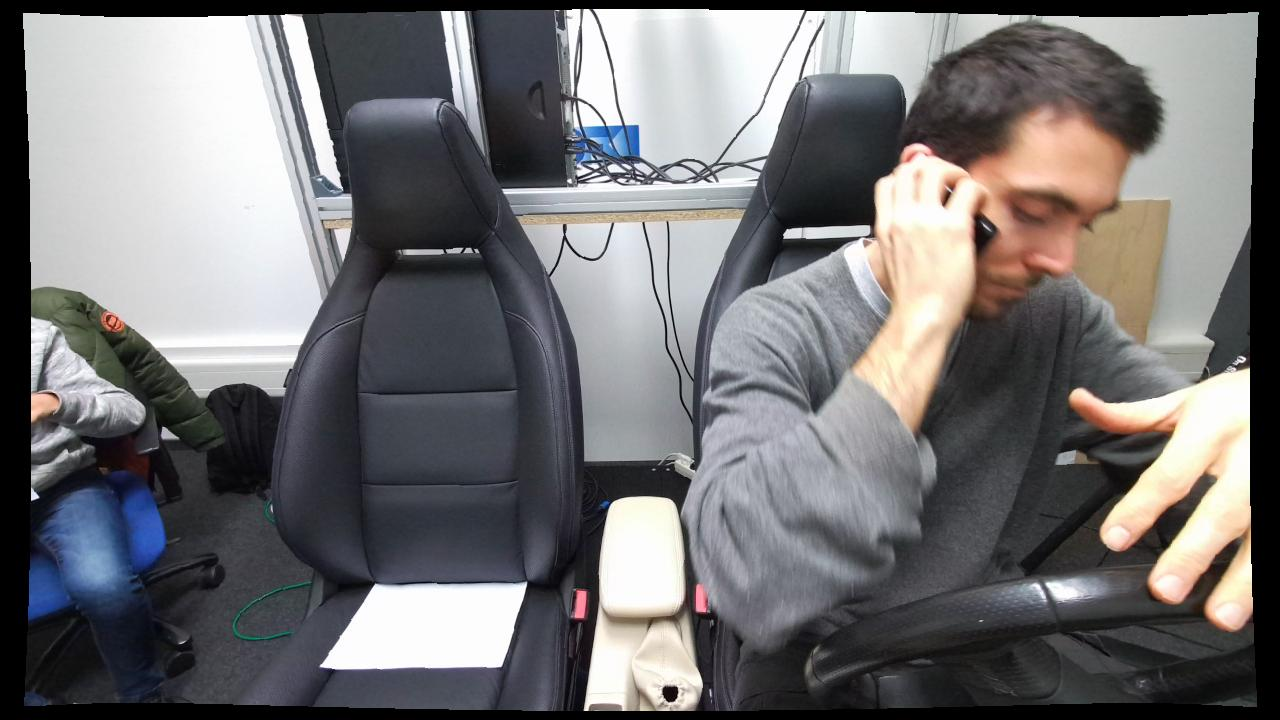Distracted: (676, 38, 1223, 714)
PhoneUse: (901, 146, 1000, 272)
